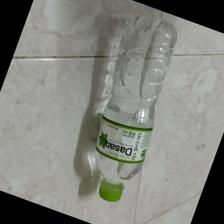Dasani: (95, 15, 177, 205)
